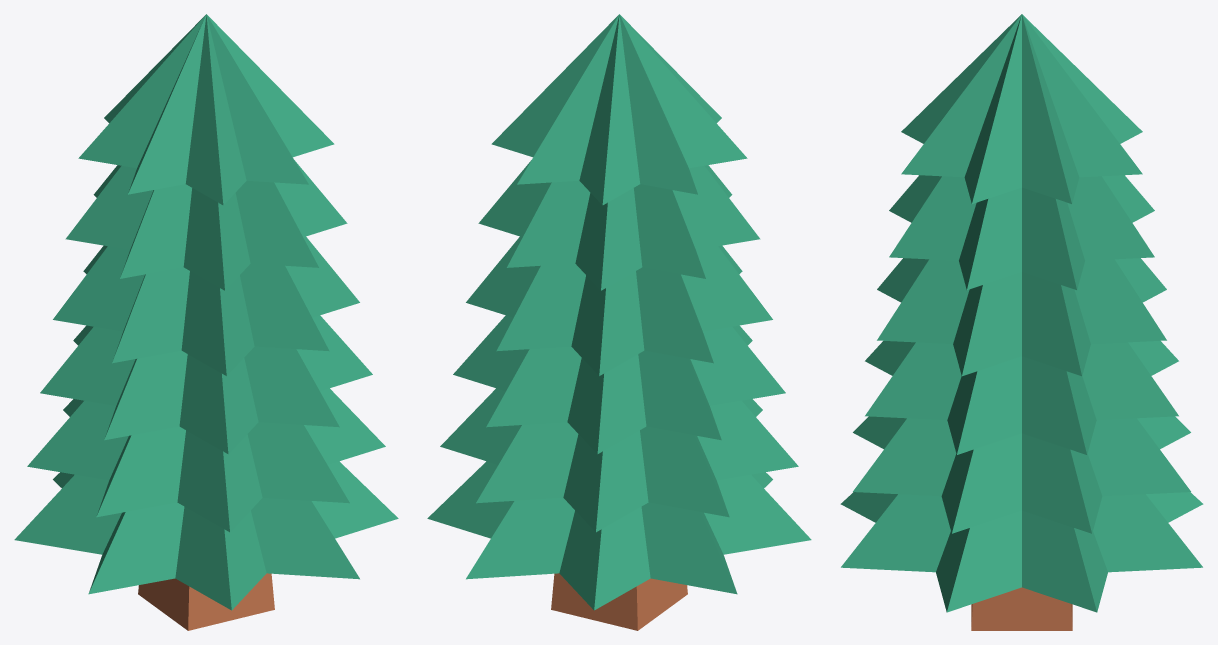
The model's file is сhristmas_tree.fbx.
3 views of the same model, side by side, from view 1: azimuth 30°, elevation 25°; view 2: azimuth 150°, elevation 25°; view 3: azimuth 270°, elevation 25° (orthographic).
Parts seen in each view (by area): view 1: сhristmas_tree; view 2: сhristmas_tree; view 3: сhristmas_tree.
Boxes of the visible parts, left/top/right/bottom form: сhristmas_tree: left=14, top=14, right=398, bottom=630; сhristmas_tree: left=427, top=14, right=811, bottom=630; сhristmas_tree: left=840, top=14, right=1203, bottom=630.
Bounding box in the file's own units: 89.4 × 162 × 89.4.
